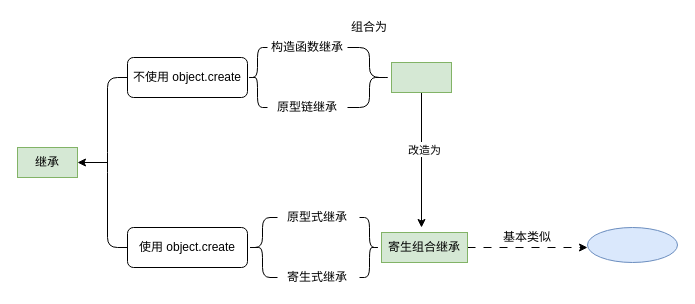
The diagram is 695 pixels wide and 304 high, and some of its shapes have lost their labels. The shapes that lost their labels are listed below. From the top down, each one's centre as x and y in pixels, then its label:
At (421,77): "组合继承".
At (632,244): "ES6 extends".
